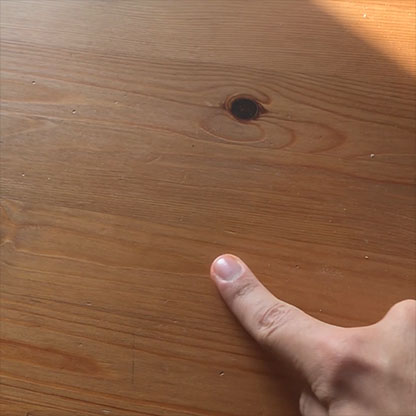fingertip: (202, 249, 251, 292)
